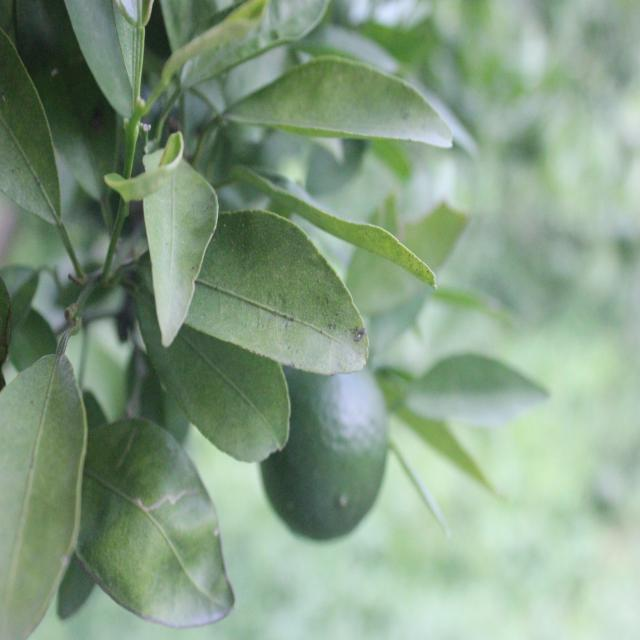blackspot: (209, 219, 369, 381), (0, 370, 82, 586), (379, 227, 438, 288)
